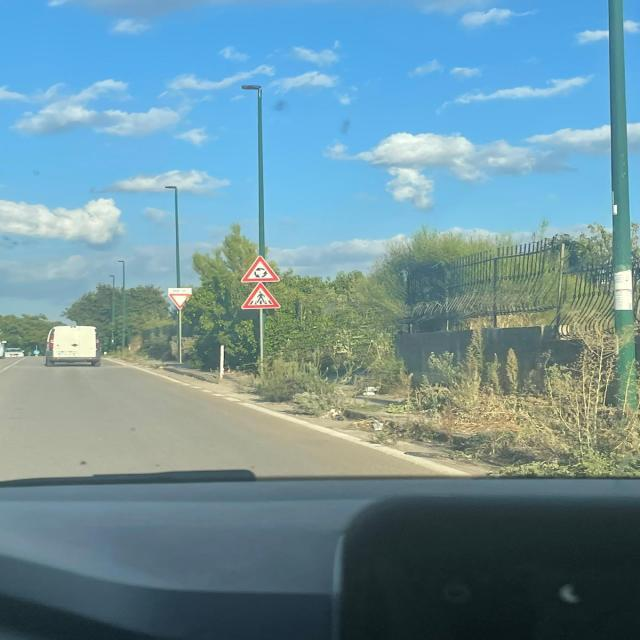prio_give_way: (168, 293, 192, 310)
warn_crosswalk: (240, 282, 282, 309)
